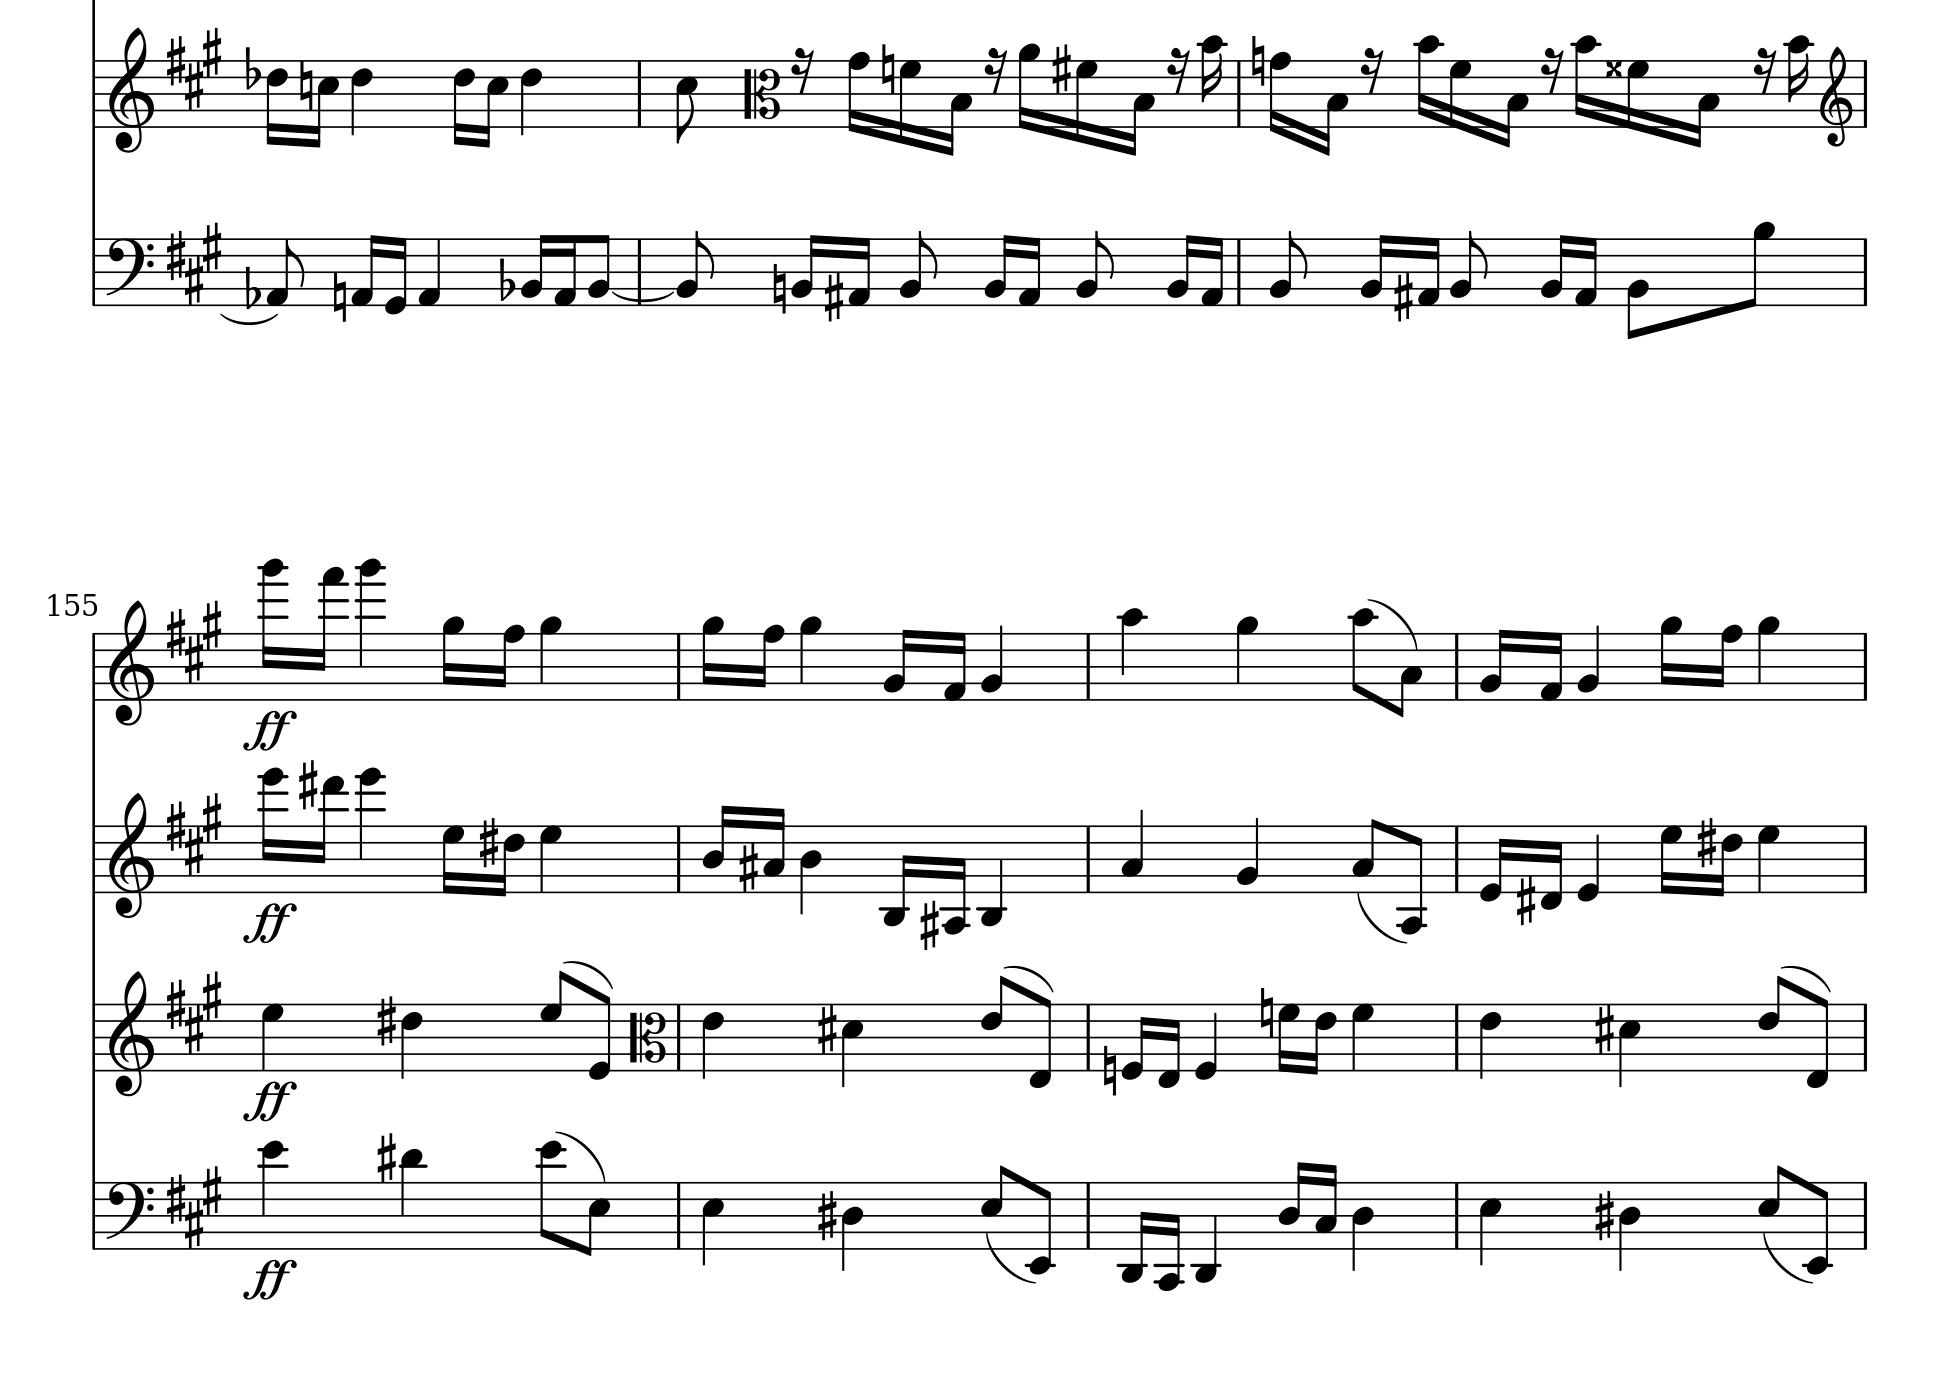1: (46, 591, 60, 618)
16_-1: (1539, 823, 1564, 910), (1156, 1000, 1182, 1087)
16_-3: (880, 823, 916, 928), (1119, 1179, 1152, 1285)
16_-4: (939, 823, 970, 936), (1155, 1179, 1183, 1291)
16_0: (1477, 823, 1512, 904), (1122, 1000, 1152, 1081), (382, 234, 408, 316)
16_1: (349, 232, 381, 307), (940, 628, 967, 703), (552, 232, 577, 307), (1539, 630, 1564, 703), (1017, 235, 1042, 307), (1416, 235, 1441, 307), (1573, 235, 1599, 307), (847, 235, 871, 307), (1200, 235, 1224, 307)
16_10: (1414, 33, 1443, 130), (1572, 33, 1600, 130), (1198, 34, 1227, 130), (1785, 33, 1813, 127)
16_13: (313, 772, 346, 894)
16_14: (259, 765, 288, 892)
16_15: (313, 568, 346, 700)
16_16: (258, 556, 288, 700)
16_2: (1359, 232, 1392, 307), (880, 627, 913, 702), (519, 232, 550, 307), (982, 232, 1014, 307), (1165, 232, 1197, 307), (1539, 232, 1570, 307), (1479, 627, 1510, 702), (790, 232, 820, 307)
16_3: (1317, 57, 1350, 157), (940, 57, 972, 157), (1123, 57, 1155, 157), (1497, 57, 1530, 148), (1689, 57, 1720, 148), (1314, 1161, 1338, 1249), (762, 805, 786, 892)
16_4: (700, 802, 733, 894), (1276, 1159, 1309, 1249)
16_5: (307, 58, 339, 150), (480, 58, 510, 148)
16_6: (1308, 1000, 1338, 1077), (495, 823, 525, 898), (1713, 823, 1743, 898), (265, 58, 289, 147), (451, 57, 475, 145)
16_7: (897, 55, 922, 148), (1074, 55, 1098, 148), (1624, 57, 1650, 135), (439, 823, 465, 897), (1447, 57, 1471, 135), (1659, 823, 1683, 898), (1276, 1000, 1300, 1075)
16_8: (492, 622, 525, 702), (751, 622, 784, 702), (1710, 622, 1743, 702), (1267, 49, 1293, 139), (846, 49, 870, 136)
16_9: (439, 613, 465, 703), (699, 613, 724, 703), (1657, 613, 1683, 703), (1017, 42, 1041, 133)
4_-3: (978, 822, 1006, 928), (1192, 1177, 1221, 1284)
4_0: (1576, 822, 1602, 904), (1194, 1000, 1219, 1081)
4_1: (415, 235, 442, 307)
4_10: (1117, 606, 1146, 703)
4_11: (397, 1146, 426, 1252)
4_12: (258, 1138, 288, 1251)
4_14: (355, 766, 385, 894)
4_15: (352, 555, 385, 702)
4_2: (1236, 814, 1263, 895), (1576, 622, 1602, 702), (981, 622, 1005, 702)
4_3: (1120, 808, 1146, 895)
4_4: (798, 823, 823, 915), (840, 1180, 865, 1272), (1617, 1180, 1642, 1272), (1350, 1180, 1375, 1270)
4_5: (700, 1180, 726, 1267), (1477, 1180, 1503, 1267), (840, 1000, 864, 1089), (1617, 1000, 1641, 1089)
4_6: (519, 58, 544, 136), (400, 1000, 424, 1080), (700, 1000, 724, 1080), (1479, 1000, 1503, 1080), (349, 58, 373, 136)
4_7: (259, 1000, 288, 1071), (1755, 823, 1782, 894), (1350, 1002, 1377, 1071), (538, 823, 562, 894)
4_9: (538, 613, 564, 702), (796, 613, 822, 702), (1234, 613, 1260, 702), (1755, 613, 1780, 702)
5: (63, 589, 79, 618), (81, 589, 97, 616)
8_-1: (1027, 994, 1056, 1090), (1804, 994, 1831, 1090)
8_-2: (1026, 1179, 1056, 1275), (1804, 1180, 1833, 1275)
8_-4: (1398, 822, 1428, 934)
8_0: (586, 991, 613, 1081)
8_1: (264, 237, 306, 309)
8_10: (1350, 606, 1378, 703)
8_12: (535, 1138, 567, 1252)
8_2: (675, 229, 714, 307), (898, 229, 937, 307), (1075, 229, 1114, 307), (1269, 229, 1308, 307), (1449, 229, 1488, 307), (1624, 237, 1650, 340), (586, 232, 610, 307)
8_3: (1392, 630, 1425, 718), (1351, 816, 1381, 892)
8_5: (1758, 1162, 1788, 1252), (981, 1162, 1009, 1252), (580, 1180, 610, 1258), (673, 58, 699, 144)
8_6: (979, 973, 1011, 1072), (1756, 973, 1788, 1072)
8_7: (538, 969, 568, 1072)
8_9: (1741, 220, 1776, 309)
A_S: (163, 1164, 225, 1249), (163, 25, 223, 111), (165, 220, 225, 304), (163, 792, 223, 876), (163, 970, 223, 1054), (163, 600, 223, 682)
Cclef: (627, 1002, 669, 1074), (741, 58, 781, 127)
DSharp: (1603, 58, 1624, 78)
Fclef: (103, 235, 154, 307), (105, 1179, 154, 1252)
Flat: (241, 264, 261, 310), (496, 255, 516, 301), (243, 43, 259, 91)
Gclef: (106, 25, 157, 154), (106, 790, 156, 919), (106, 967, 156, 1096), (106, 598, 156, 726), (1818, 43, 1855, 148)
Natural: (879, 42, 897, 97), (1257, 985, 1275, 1039), (1249, 34, 1266, 88), (331, 270, 348, 324), (771, 261, 787, 315), (1102, 1042, 1119, 1096), (298, 58, 313, 111)
Rests16: (1359, 46, 1386, 94), (1539, 46, 1564, 96), (1752, 46, 1777, 94), (790, 46, 814, 94), (984, 46, 1008, 94), (1167, 46, 1191, 94)
Sharp: (373, 1129, 397, 1185), (814, 1002, 838, 1056), (1695, 816, 1719, 868), (1050, 40, 1072, 96), (816, 1188, 838, 1243), (1593, 1188, 1615, 1243), (736, 840, 759, 894), (375, 993, 397, 1047), (1593, 1002, 1615, 1056), (297, 757, 318, 811), (478, 814, 499, 868), (823, 270, 844, 322), (1392, 270, 1413, 322), (919, 898, 939, 951), (1516, 874, 1536, 925)
Single_barline: (1855, 1180, 1873, 1249), (1080, 631, 1098, 699), (670, 1180, 688, 1248), (1857, 58, 1873, 127), (85, 1003, 102, 1072), (85, 1180, 102, 1249), (631, 58, 648, 126), (85, 825, 102, 892), (1080, 1182, 1096, 1249), (1231, 238, 1248, 304), (1857, 238, 1873, 304), (1857, 633, 1873, 699), (670, 1003, 687, 1069), (1857, 1003, 1873, 1069), (1080, 1003, 1096, 1069), (1449, 1003, 1465, 1069), (670, 633, 687, 697), (1857, 826, 1873, 891), (1449, 1182, 1465, 1246), (631, 238, 648, 301), (670, 826, 687, 889), (85, 631, 100, 700), (1449, 631, 1464, 699), (1449, 825, 1464, 892), (1231, 60, 1246, 126), (87, 238, 102, 304), (1081, 825, 1096, 889), (87, 61, 100, 127)
Slur: (1761, 1231, 1815, 1285), (984, 1231, 1039, 1284), (1366, 595, 1419, 649), (1354, 891, 1408, 943), (553, 1129, 607, 1182), (564, 958, 616, 988), (1003, 961, 1056, 991), (1782, 963, 1833, 990), (219, 310, 280, 325), (612, 289, 673, 301)
ff: (241, 708, 297, 754), (241, 900, 297, 946), (241, 1078, 297, 1123), (240, 1258, 298, 1300)
